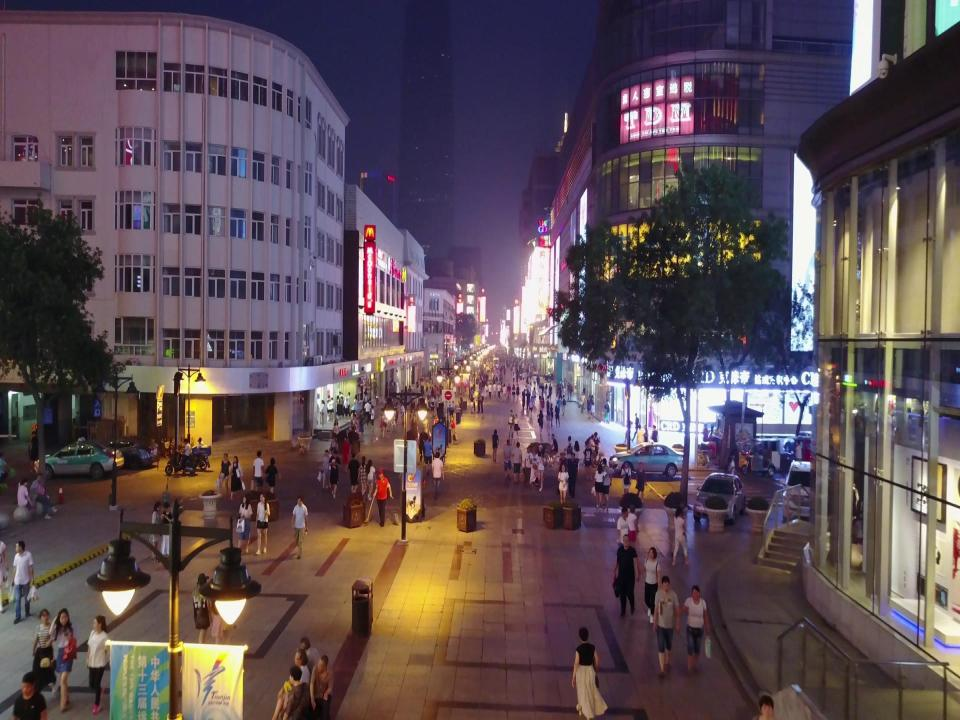car: (35, 438, 115, 476), (693, 469, 747, 524), (608, 441, 684, 480), (99, 431, 159, 467), (782, 462, 810, 519), (635, 425, 642, 444)
